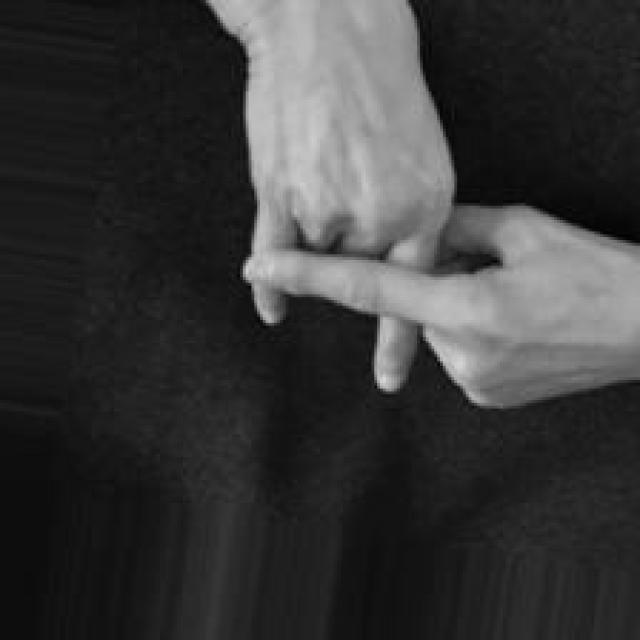H: (191, 0, 640, 411)
